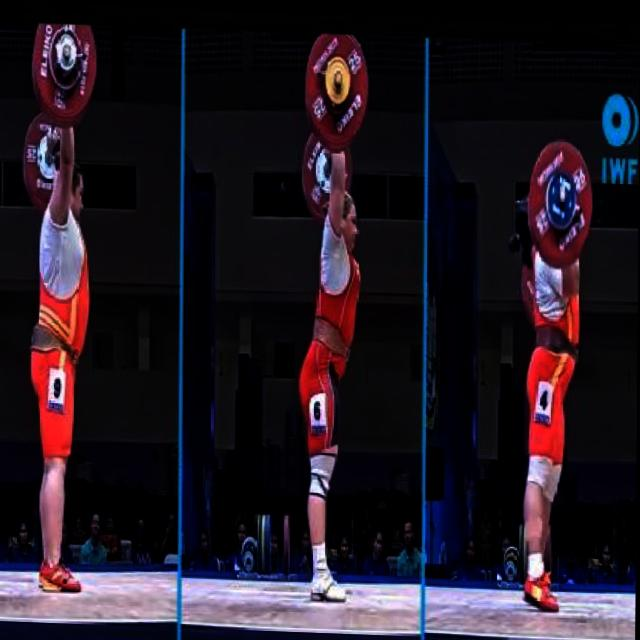barbell: (528, 133, 597, 266), (302, 30, 373, 146), (29, 23, 103, 123)
